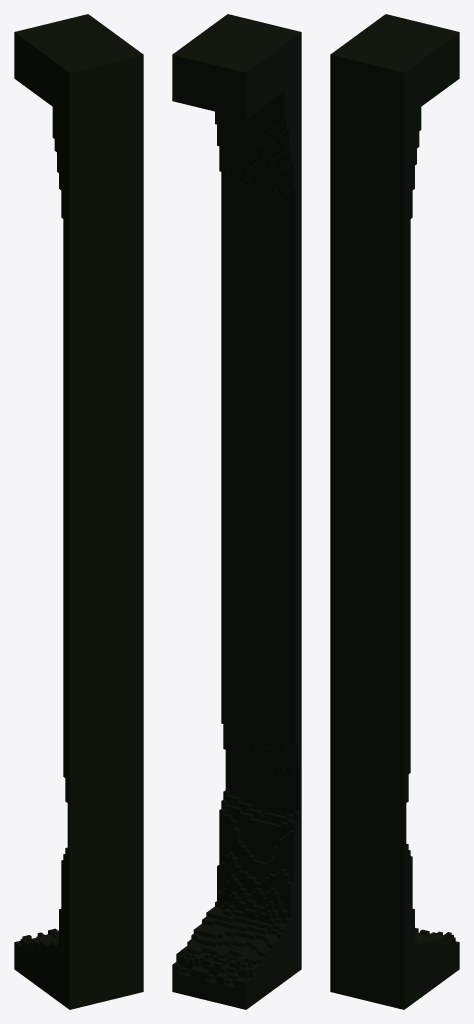
The model's file is Wall_3_mirror.glb.
The picture shows the model from 3 angles, left to right: view 1: azimuth 30°, elevation 25°; view 2: azimuth 150°, elevation 25°; view 3: azimuth 330°, elevation 25°; orthographic projection.
Parts seen in each view (by area): view 1: Untitled.016, Untitled.008, Untitled.011; view 2: Untitled.016, Untitled.008, Untitled.011; view 3: Untitled.016, Untitled.008, Untitled.011.
Boxes of the visible parts, box(x1,y1,x2,y2) form: Untitled.016: box(14, 546, 143, 1009); Untitled.008: box(63, 217, 143, 564); Untitled.011: box(14, 14, 143, 235); Untitled.016: box(172, 510, 301, 1009); Untitled.008: box(221, 181, 301, 528); Untitled.011: box(172, 14, 301, 199); Untitled.016: box(330, 546, 459, 1009); Untitled.008: box(330, 217, 410, 564); Untitled.011: box(330, 14, 459, 235).
Size of the model in its own units: 2 by 24.2 by 2.6.
3 materials, 3 textured.
